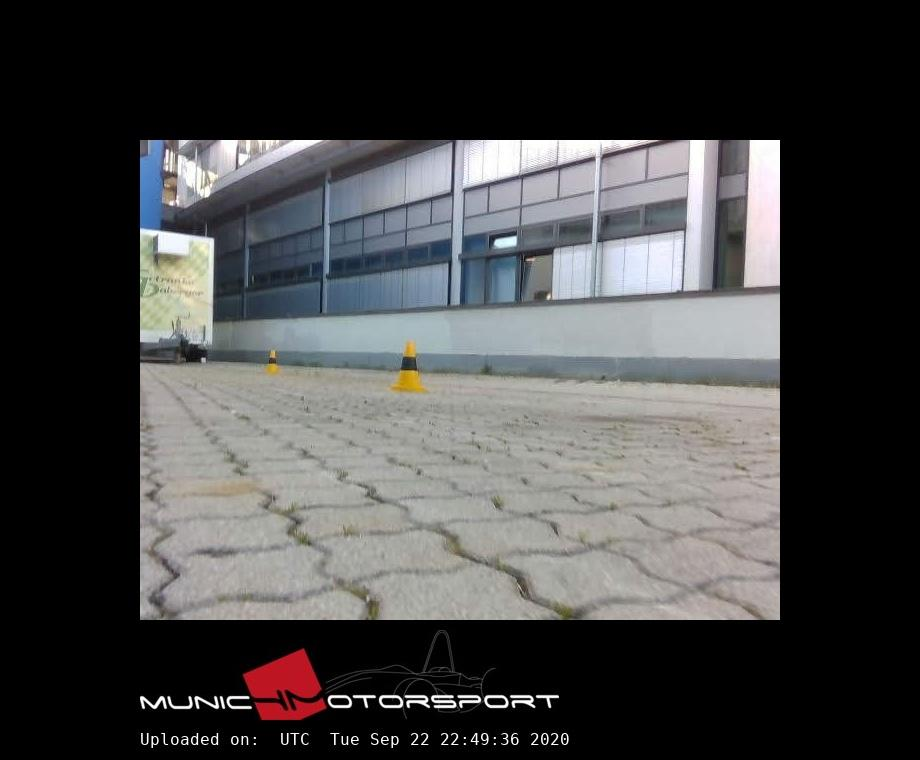yellow_cone: (390, 342, 426, 392), (263, 350, 280, 373)
